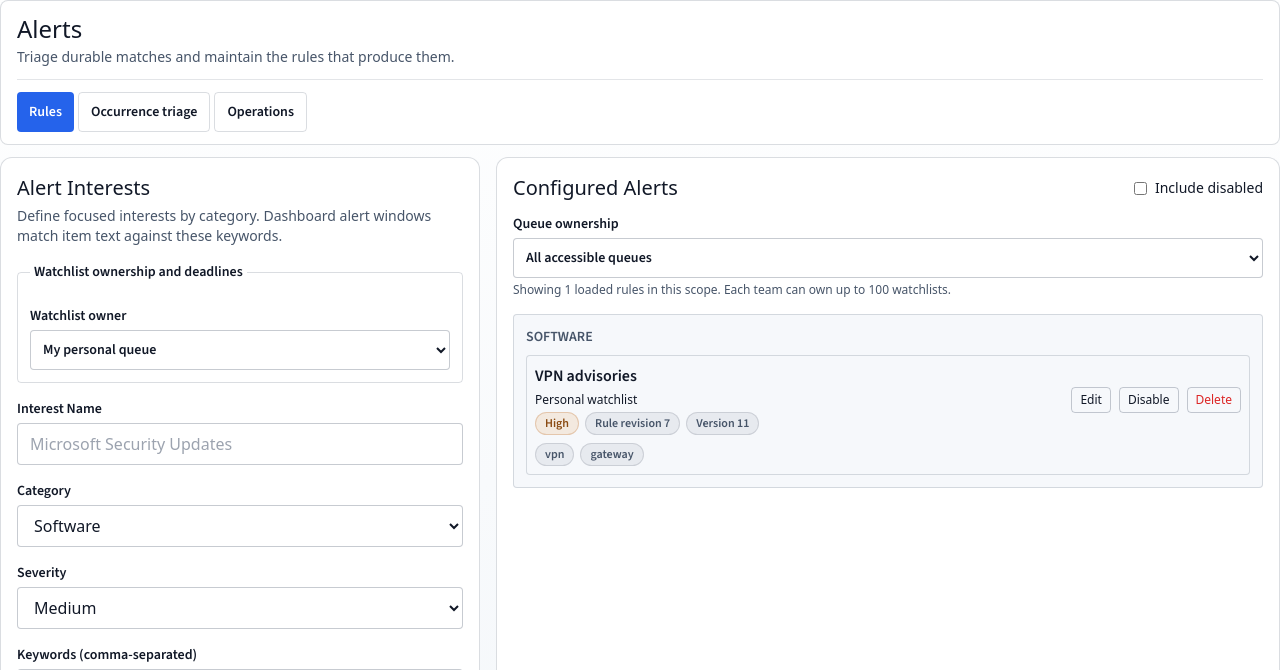
Test: AlertsPage DOM workflows › uses a specific live pending label while deleting an alert rule
Click the button with aria-label "Delete alert rule VPN advisories": x=1214, y=400 [1186,386,1241,412]
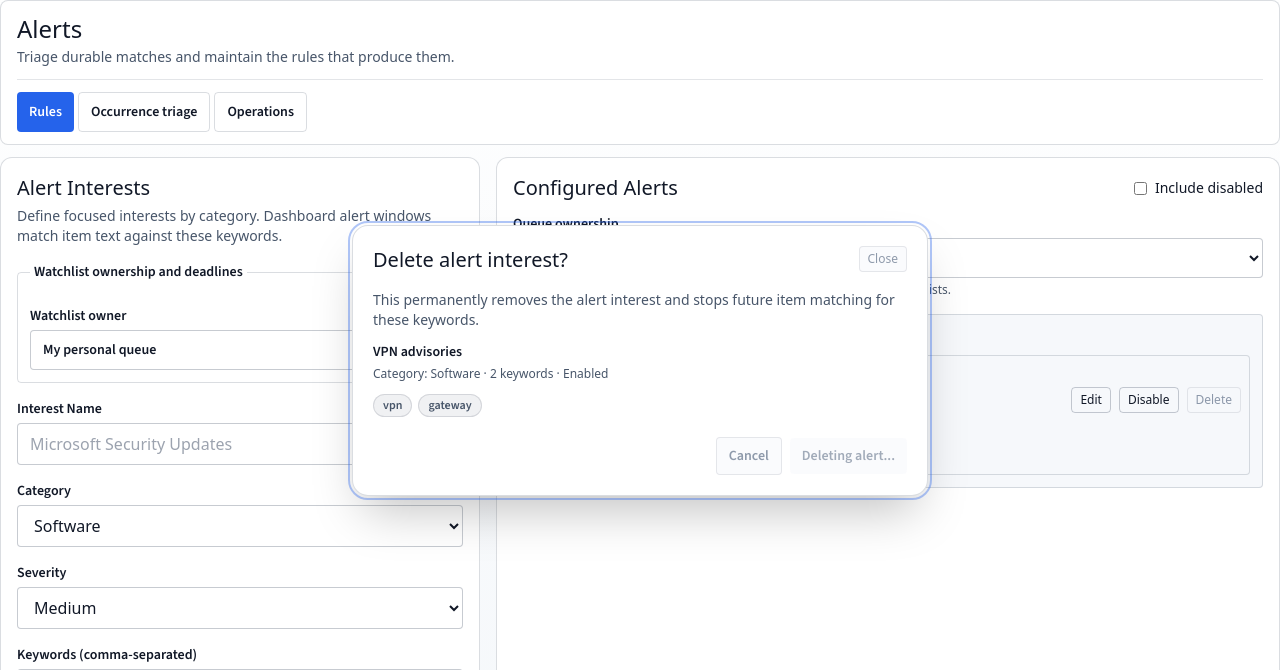
Expected: the dialog shows "Deleting alert...", [790,438,907,474]
